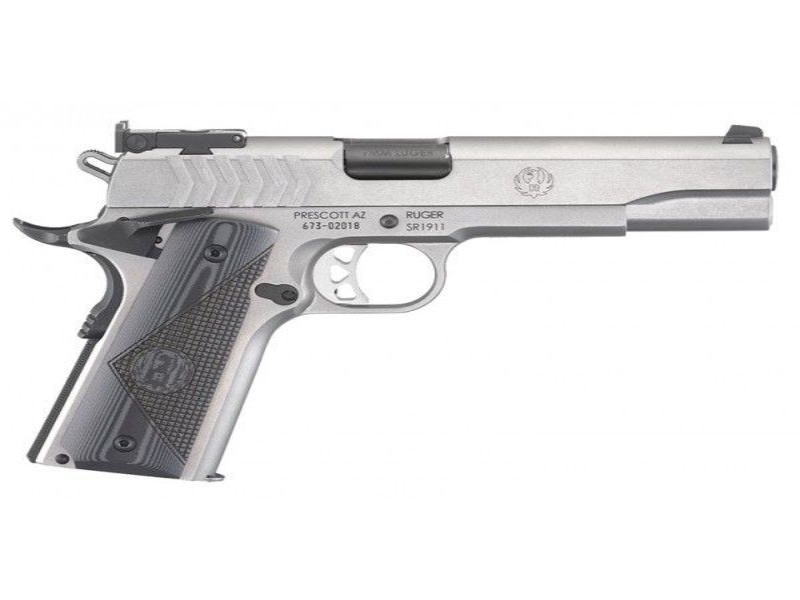gun: (26, 96, 794, 479)
